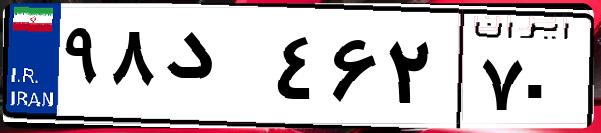0: (525, 38, 570, 115)
2: (385, 28, 445, 110)
4: (270, 28, 330, 110)
6: (330, 28, 385, 110)
7: (475, 38, 525, 113)
8: (110, 28, 158, 98)
9: (57, 26, 110, 100)
د: (158, 20, 270, 120)
